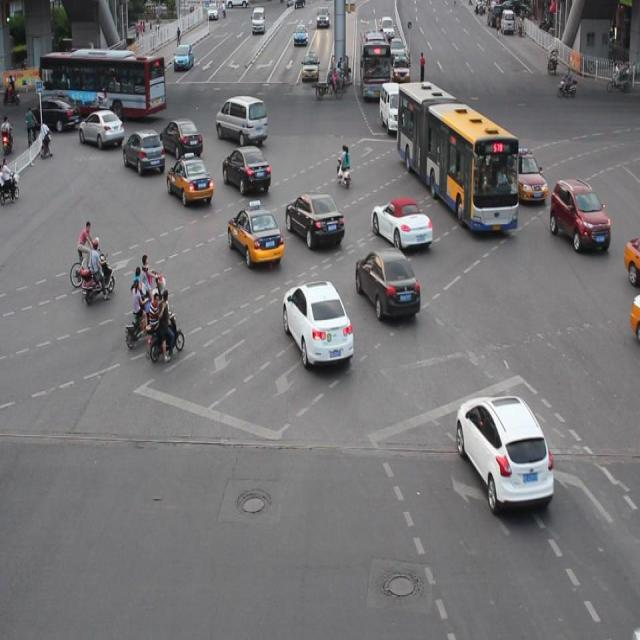car: (455, 393, 553, 508), (282, 278, 353, 366), (355, 247, 420, 320), (550, 177, 608, 251), (285, 191, 345, 249), (370, 196, 433, 250), (228, 204, 283, 265), (221, 144, 271, 194), (166, 154, 213, 206), (509, 147, 547, 203), (124, 128, 165, 173), (159, 116, 202, 158), (80, 108, 124, 147)
truck: (215, 95, 267, 142)
van: (396, 81, 517, 231), (40, 50, 166, 114)
